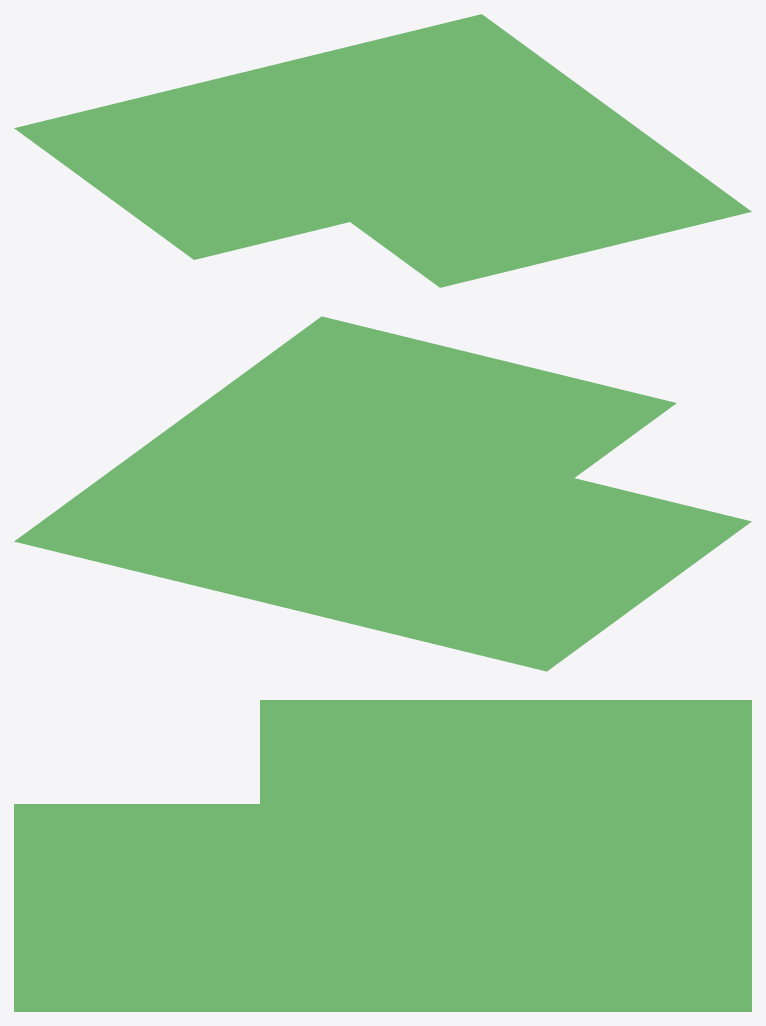
The model's file is x_oo_ground_3_30x30_1_rmstrd.fbx.
3 views of the same model, one above another, from view 1: azimuth 30°, elevation 25°; view 2: azimuth 150°, elevation 25°; view 3: azimuth 270°, elevation 25° (orthographic). The views are drawn at different scales.
Visible parts, largest first — view 1: x_oo_ground_3_30x30_1_rmstrd1; view 2: x_oo_ground_3_30x30_1_rmstrd1; view 3: x_oo_ground_3_30x30_1_rmstrd1.
Part boxes in pixels (x1=…): x_oo_ground_3_30x30_1_rmstrd1: x1=14, y1=14, x2=751, y2=287; x_oo_ground_3_30x30_1_rmstrd1: x1=14, y1=316, x2=751, y2=671; x_oo_ground_3_30x30_1_rmstrd1: x1=14, y1=700, x2=751, y2=1011.
Size of the model in its own units: 30 by 1.52e-14 by 30.
